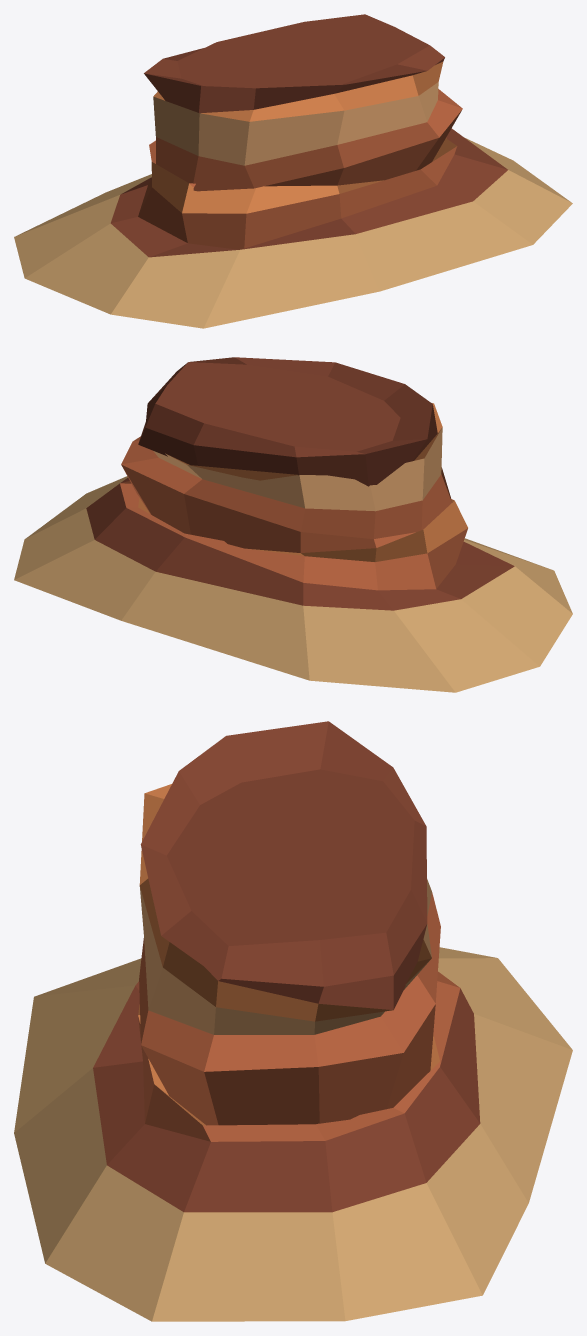
File: SM_Mesa_B.fbx
The picture shows the model from 3 angles, top to bottom: view 1: azimuth 30°, elevation 25°; view 2: azimuth 150°, elevation 25°; view 3: azimuth 270°, elevation 25°; orthographic projection. The views are drawn at different scales.
Visible parts, largest first — view 1: Mesa_B; view 2: Mesa_B; view 3: Mesa_B.
Boxes of the visible parts, bbox=[...] form: Mesa_B: bbox=[14, 14, 572, 328]; Mesa_B: bbox=[14, 357, 572, 692]; Mesa_B: bbox=[14, 721, 572, 1321].
Size of the model in its own units: 13141 by 7933 by 4790.
